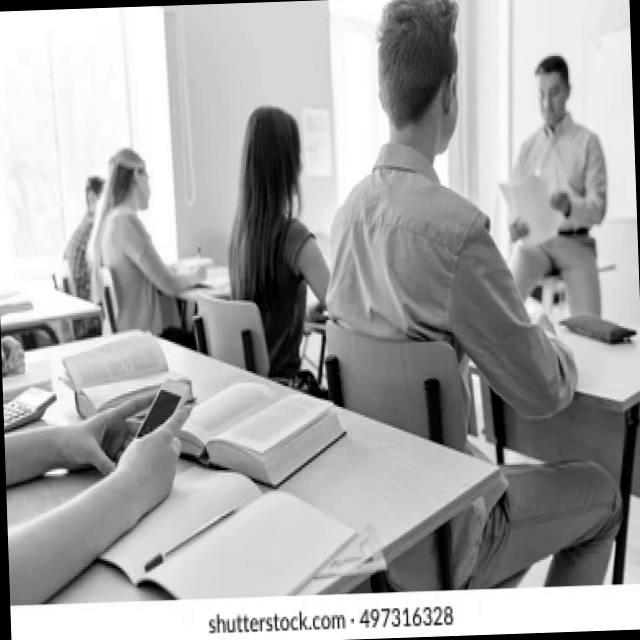phone: (130, 374, 191, 438), (2, 382, 56, 434)
